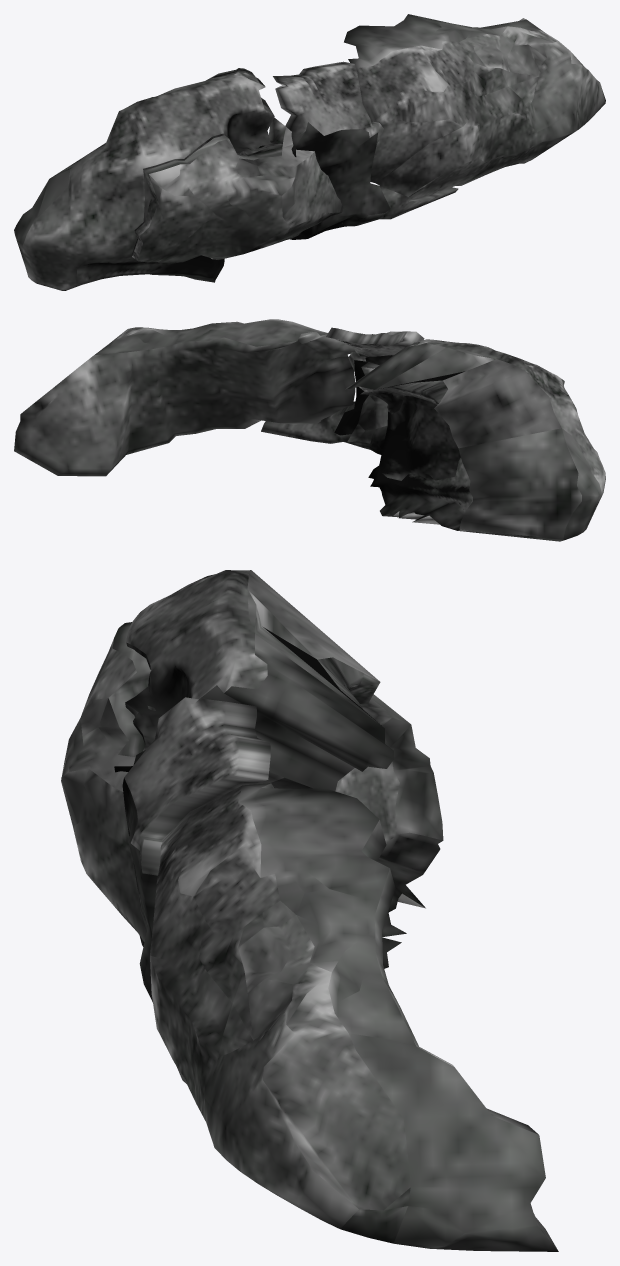
File: CrystalBroken.fbx
The picture shows the model from 3 angles, top to bottom: view 1: azimuth 30°, elevation 25°; view 2: azimuth 150°, elevation 25°; view 3: azimuth 270°, elevation 25°; orthographic projection. The views are drawn at different scales.
Parts seen in each view (by area): view 1: CrystalLP.003, CrystalLP.001, CrystalLP.002, CrystalLP.004; view 2: CrystalLP.001, CrystalLP.003, CrystalLP.004, CrystalLP.002; view 3: CrystalLP.003, CrystalLP.001, CrystalLP.004, CrystalLP.002.
Boxes of the visible parts, <box> form: CrystalLP.003: <box>344,14,605,199</box>; CrystalLP.001: <box>14,68,282,290</box>; CrystalLP.002: <box>132,118,343,262</box>; CrystalLP.004: <box>273,61,458,239</box>; CrystalLP.001: <box>345,339,605,541</box>; CrystalLP.003: <box>14,319,355,476</box>; CrystalLP.004: <box>261,327,424,454</box>; CrystalLP.002: <box>347,362,564,448</box>; CrystalLP.003: <box>150,783,558,1251</box>; CrystalLP.001: <box>125,570,443,968</box>; CrystalLP.004: <box>114,697,270,1083</box>; CrystalLP.002: <box>61,622,155,941</box>.
Size of the model in its own units: 2.11 by 0.8726 by 0.6684.
